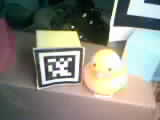duck: (78, 41, 138, 95)
